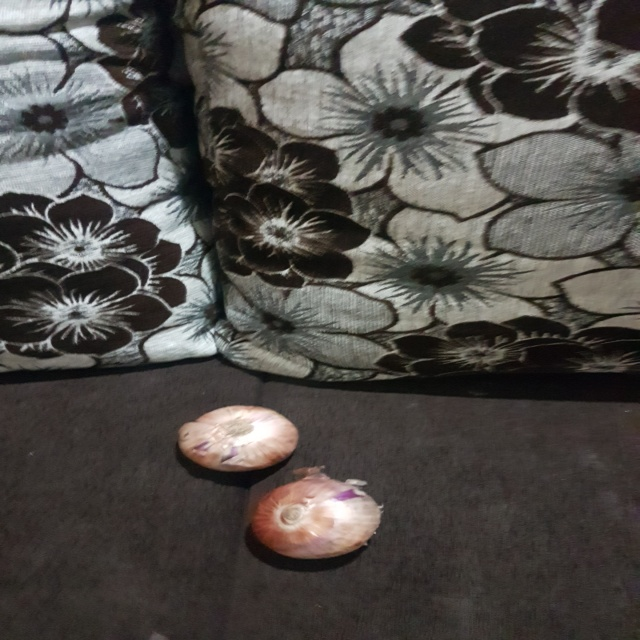onion: (248, 463, 388, 565), (174, 403, 304, 472)
